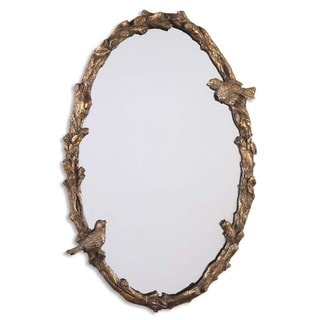Nonrec_Glass: (54, 8, 265, 312)
